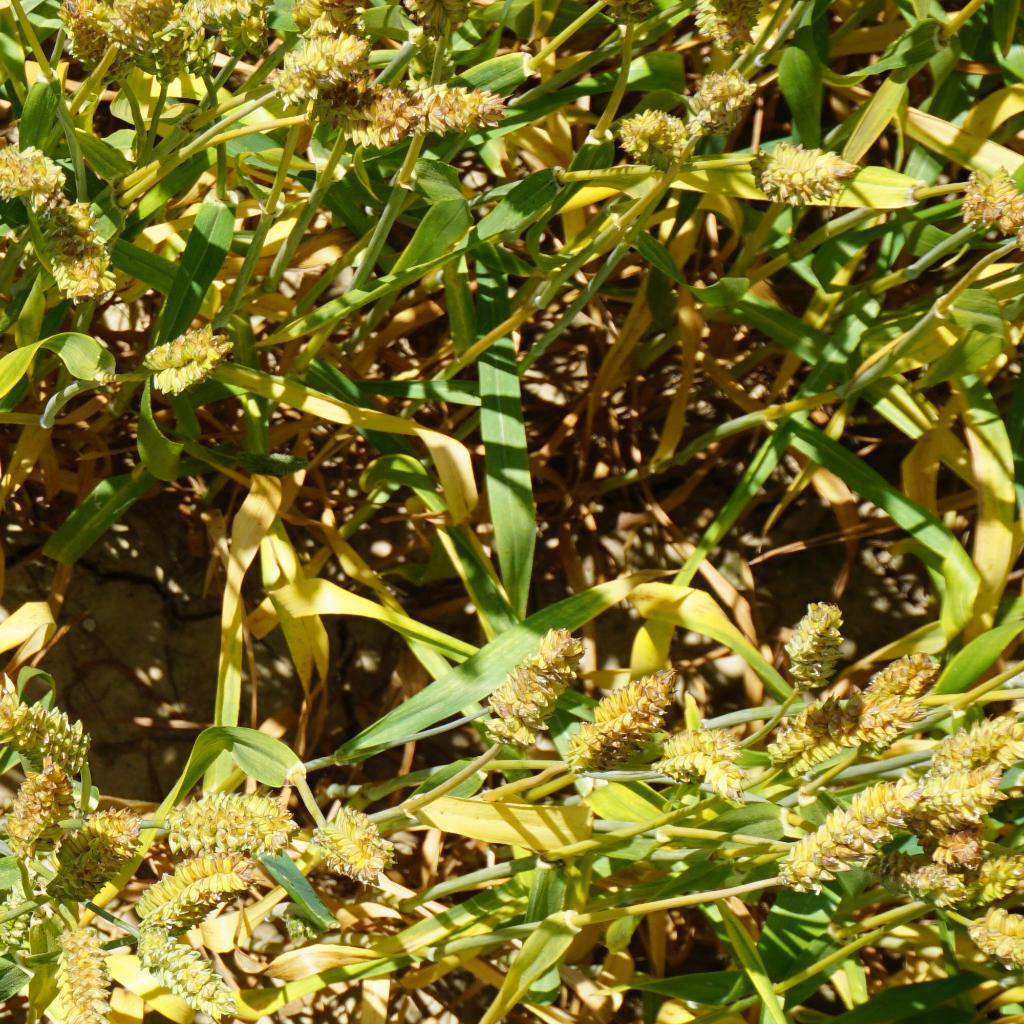0-0: (768, 757, 942, 901), (482, 618, 597, 754), (461, 623, 595, 716), (126, 847, 256, 936), (162, 782, 299, 862), (141, 918, 241, 1019), (36, 202, 124, 313), (576, 667, 665, 774), (401, 63, 510, 147), (650, 721, 749, 811), (263, 20, 374, 99), (850, 638, 936, 739), (305, 793, 390, 894), (137, 317, 249, 393), (0, 688, 93, 777), (45, 795, 129, 892), (759, 692, 849, 782), (309, 82, 412, 154), (51, 916, 115, 1024), (122, 0, 198, 87), (929, 697, 1024, 766), (757, 140, 854, 207), (916, 763, 1003, 835), (959, 156, 1024, 240), (788, 593, 847, 685), (617, 105, 694, 173), (960, 903, 1024, 977), (7, 768, 64, 850), (41, 0, 117, 61), (689, 58, 757, 114), (0, 878, 43, 962), (0, 141, 55, 201), (176, 0, 243, 46), (407, 0, 480, 41), (978, 844, 1024, 903), (704, 0, 758, 46), (292, 0, 361, 36), (899, 849, 948, 897)
